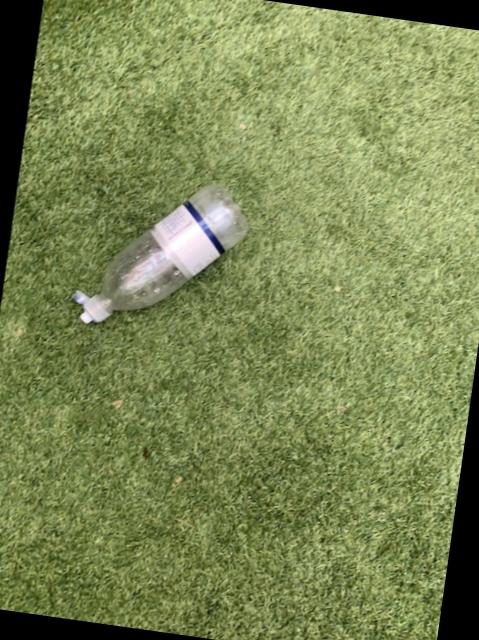plastic: (75, 184, 249, 322)
